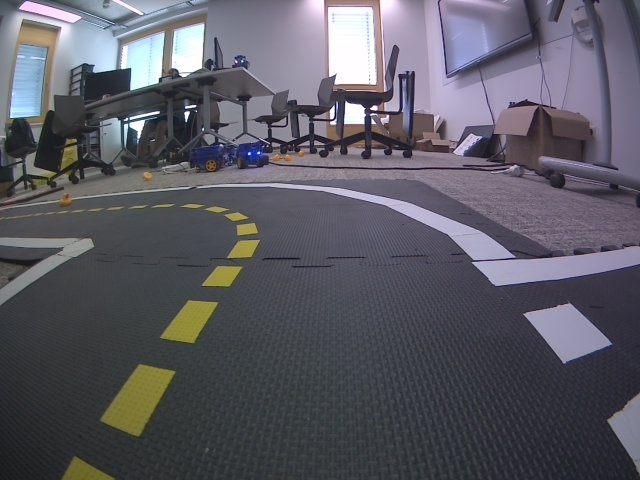Bot: (188, 147, 222, 172), (235, 144, 264, 169), (232, 54, 248, 70)
freeSpot: (472, 245, 640, 480)
